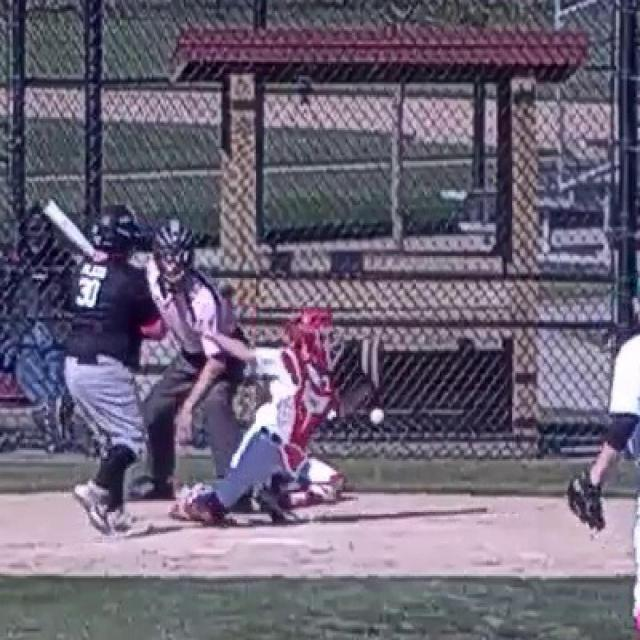baseball: (371, 409, 384, 423)
